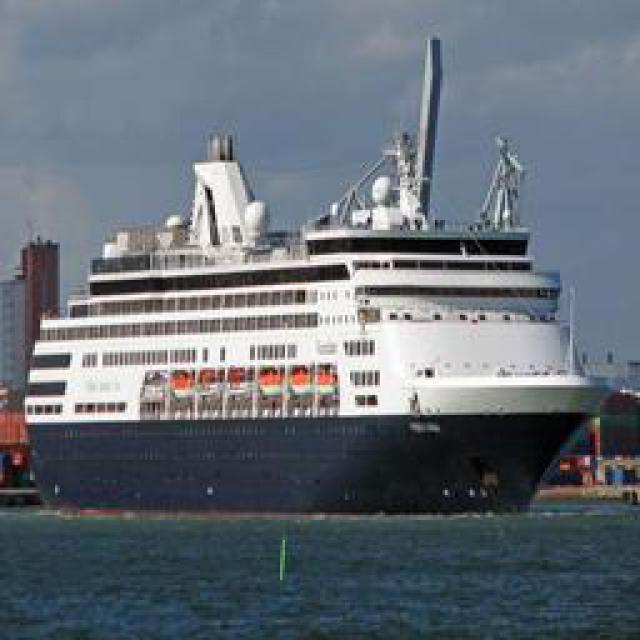Ship: (21, 40, 616, 513)
